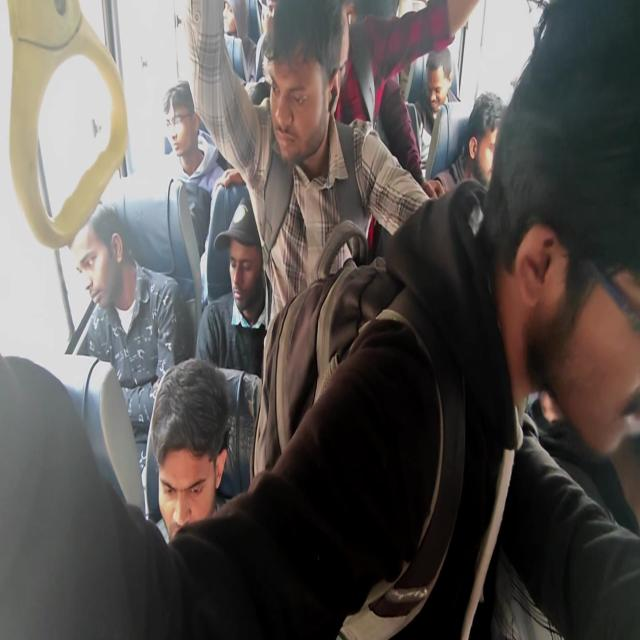person: (537, 46, 640, 447), (148, 379, 227, 538), (215, 219, 300, 313), (284, 24, 330, 166), (65, 213, 114, 305), (160, 86, 207, 176), (468, 83, 506, 187), (318, 0, 357, 95), (423, 55, 456, 119), (220, 5, 242, 43)
